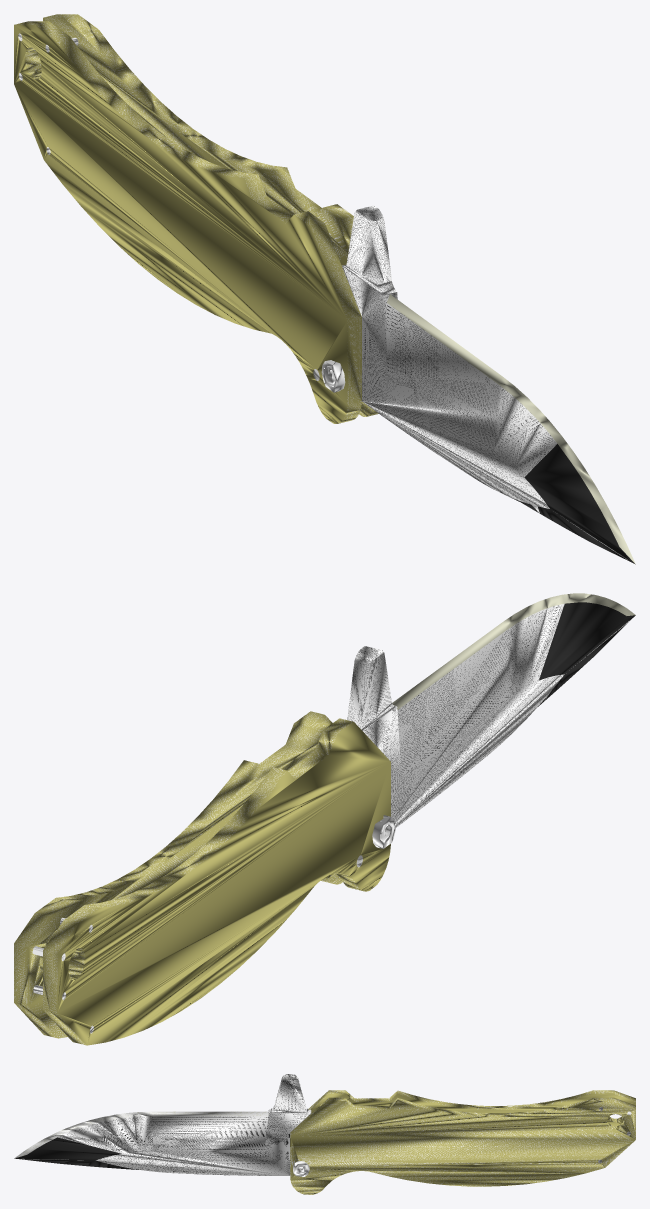
The model's file is model_align.obj.
3 views of the same model, one above another, from view 1: azimuth 30°, elevation 25°; view 2: azimuth 150°, elevation 25°; view 3: azimuth 270°, elevation 25° (orthographic). The views are drawn at different scales.
Size of the model in its own units: 0.012 by 0.044 by 0.2166.
